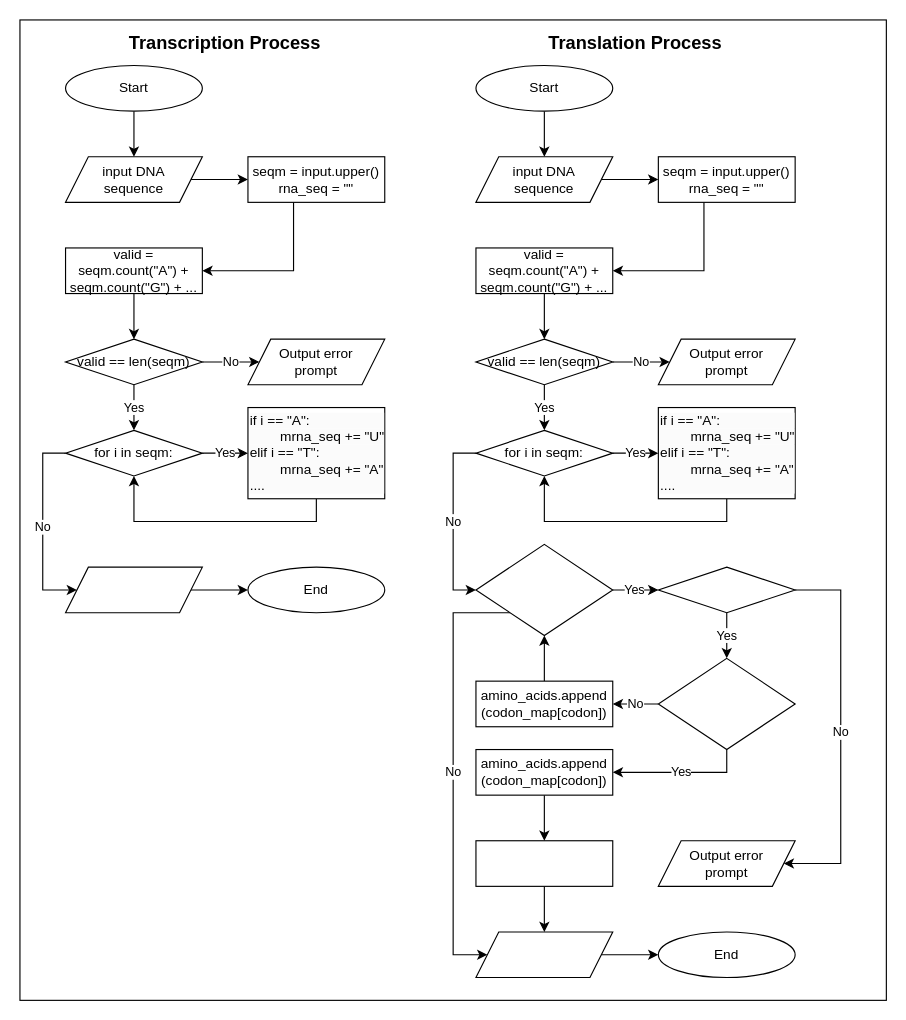
Some shapes in this 906 by 1020 pixel diagram are drawn without their labels. The centre of each missing label's shape, as x and y in pixels:
"Break" goes at (544,863).
"for j in range(0, len(mrna_seq) - 2, 3):" goes at (544,589).
"if codon in codon_map:" goes at (726,589).
"if codon_map[codon] == 'Stop':" goes at (726,703).
"Output amino acids sequence" goes at (544,954).
"Output mRNA sequence" goes at (133,589).
